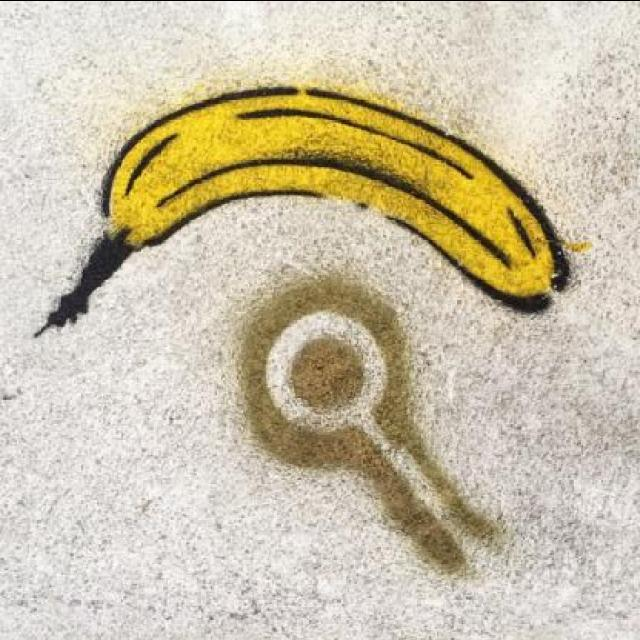Banana: (28, 80, 590, 340)
